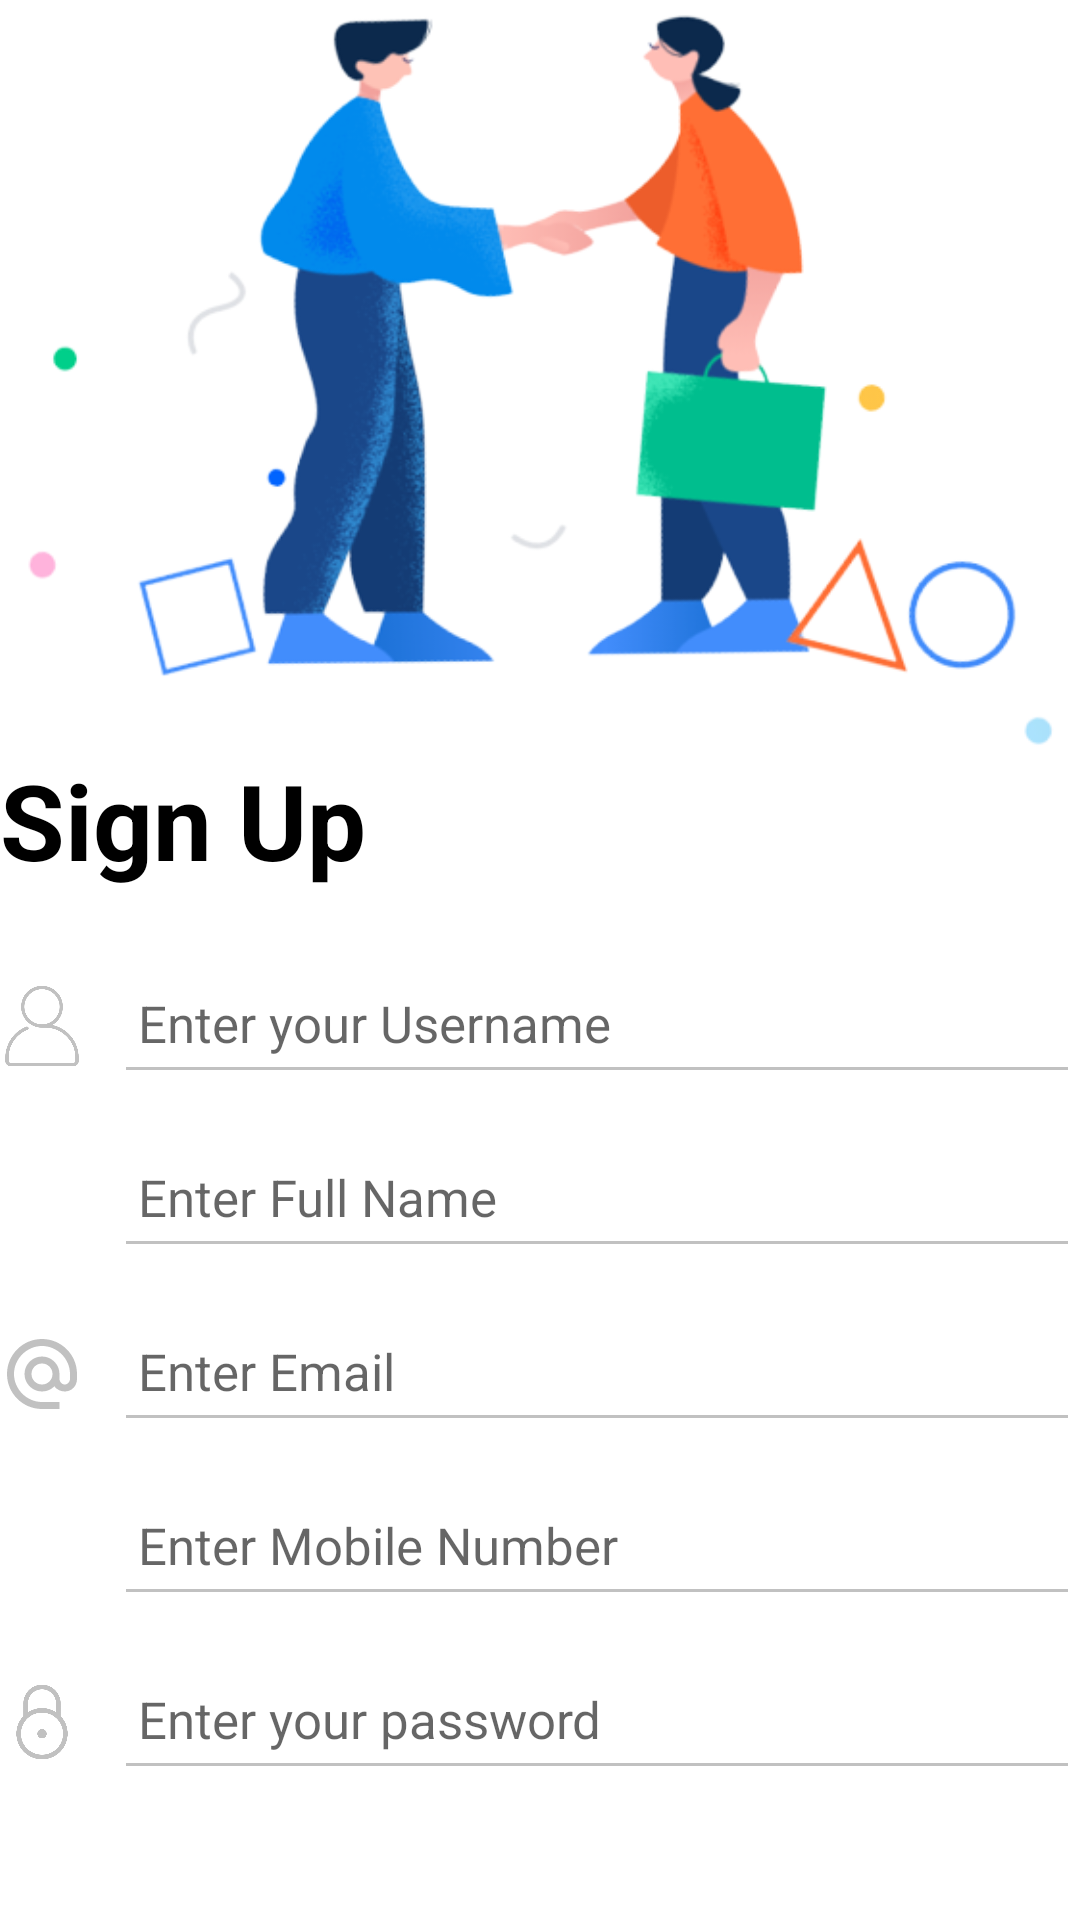

Icon click points for this 1080 × 1920 phone screenshot, format (x=x, y=y):
lock: (x=42, y=1722)
